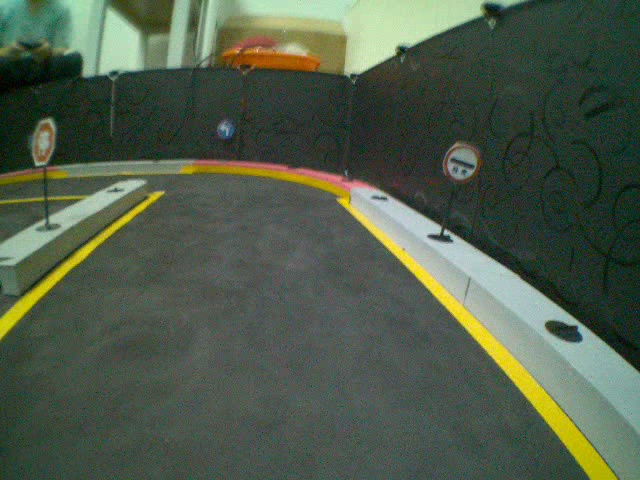Stop: (31, 116, 55, 165)
turn: (444, 141, 482, 183), (216, 119, 232, 138)
